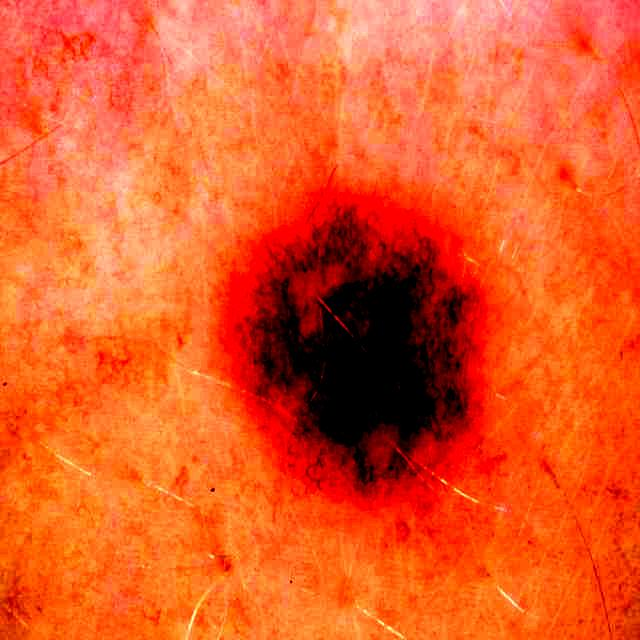BCC: (236, 189, 480, 490)
